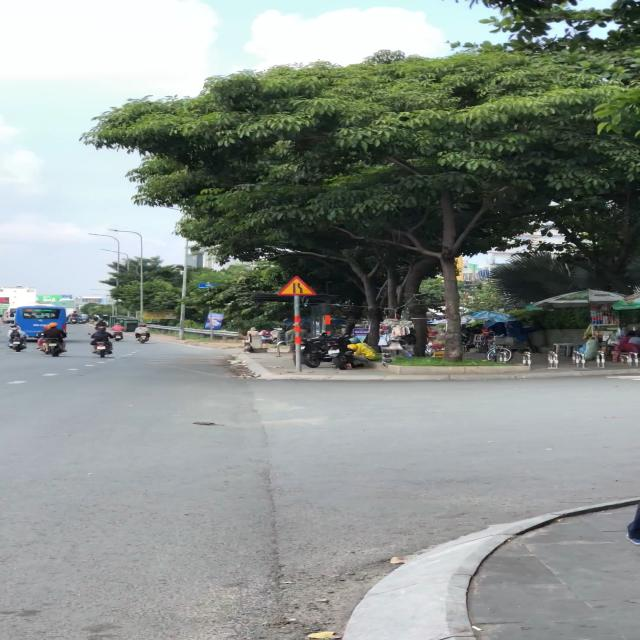Bien bao duong bi thu hep: (276, 275, 319, 296)
